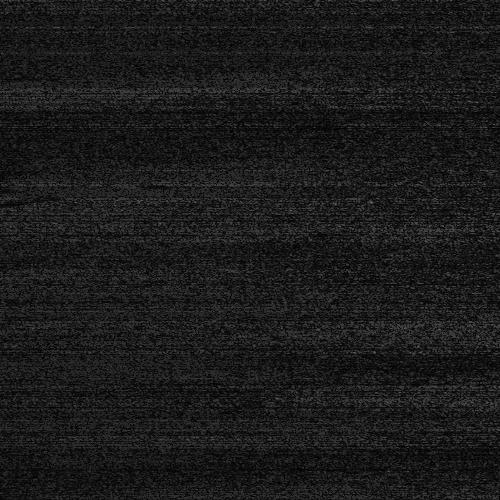rock: (0, 194, 22, 199)
shadow: (7, 194, 36, 199)
